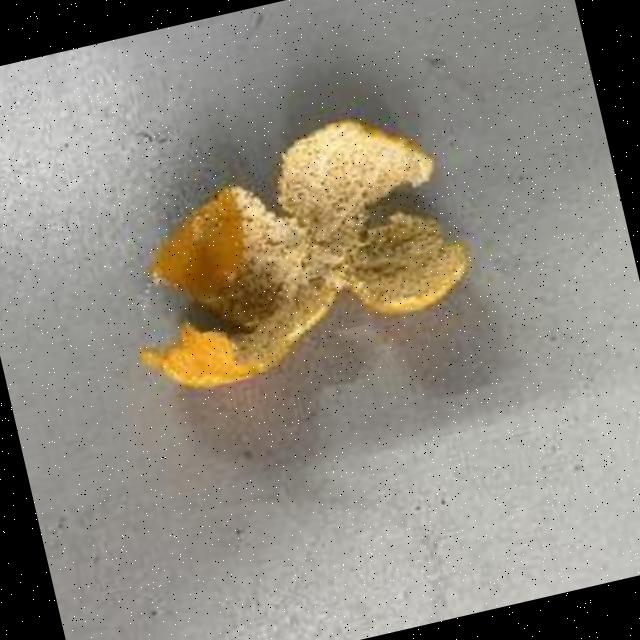orange-peel: (94, 92, 490, 407)
